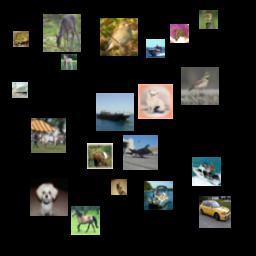airplane: (123, 135, 158, 170)
automobile: (199, 196, 231, 228)
bird: (181, 67, 219, 105), (100, 18, 138, 56), (199, 10, 218, 29)
cat: (138, 84, 173, 119), (111, 179, 127, 195)
deer: (43, 14, 81, 52), (87, 143, 113, 169)
dog: (30, 178, 68, 216), (170, 24, 189, 43)
frog: (13, 31, 29, 47)
ship: (96, 93, 134, 131), (144, 181, 173, 210), (192, 157, 221, 186), (146, 39, 165, 58), (12, 82, 28, 98)
